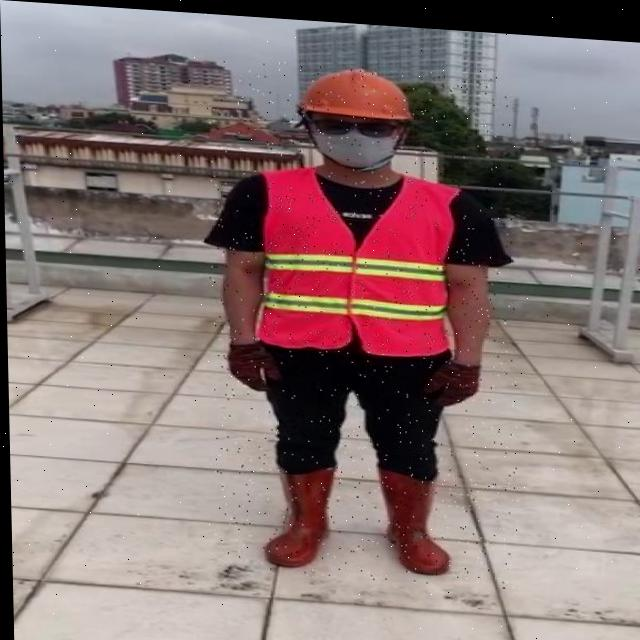Gloves: (420, 352, 481, 404), (226, 336, 281, 390)
Helmet: (286, 55, 420, 124)
Safety-Boot: (260, 456, 336, 565), (376, 459, 449, 570)
Safety-Vest: (250, 158, 464, 356)
